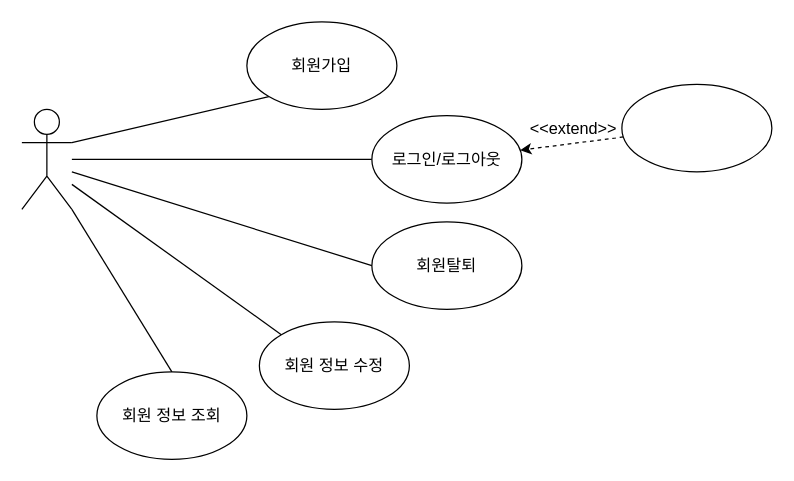
Some shapes in this 794 by 481 pixel diagram are drawn without their labels. The shapes that lost their labels are listed below. From the top down, each one's box as (x1, y1, x2, y2) in pixels, then its label:
(621, 83, 772, 172): 비밀번호 찾기
(21, 108, 72, 209): 사용자
